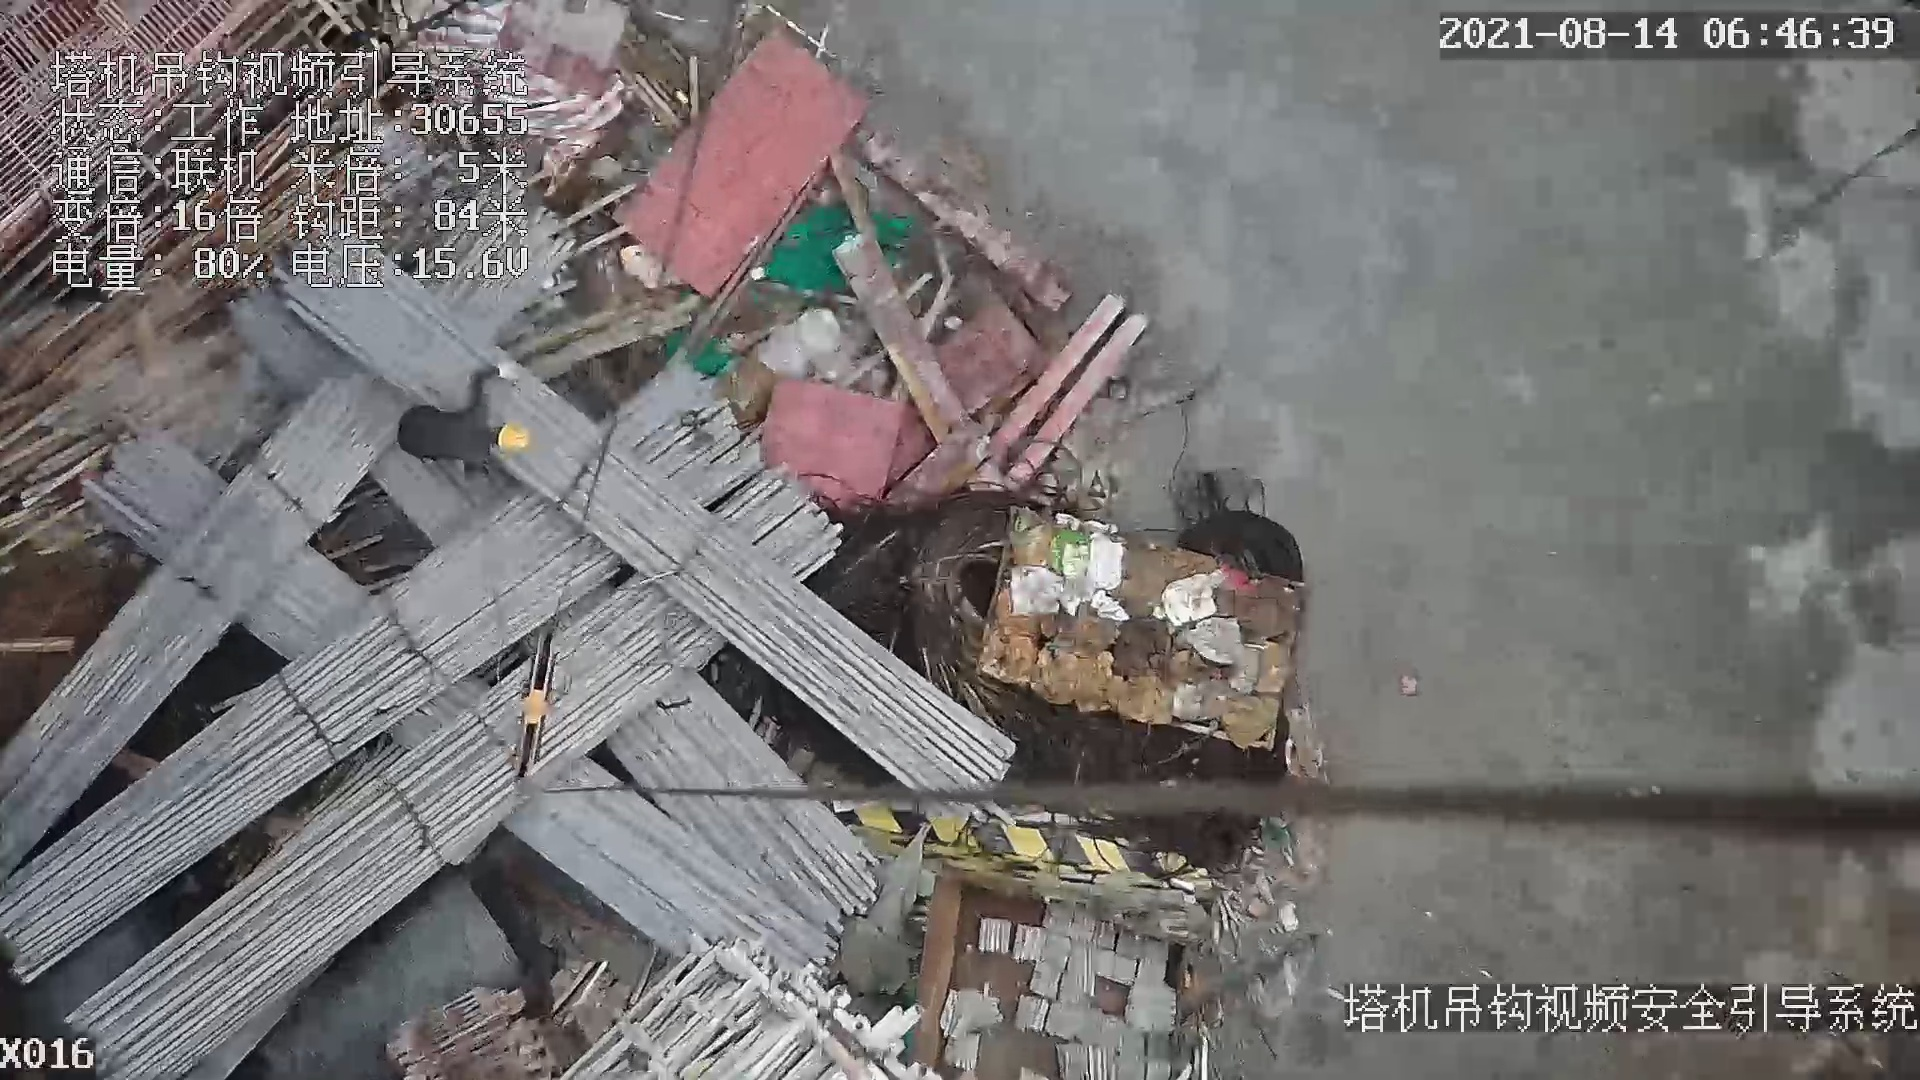board: (615, 17, 869, 302)
helmet: (497, 426, 533, 454)
hook: (495, 618, 562, 800)
person: (394, 358, 535, 489)
